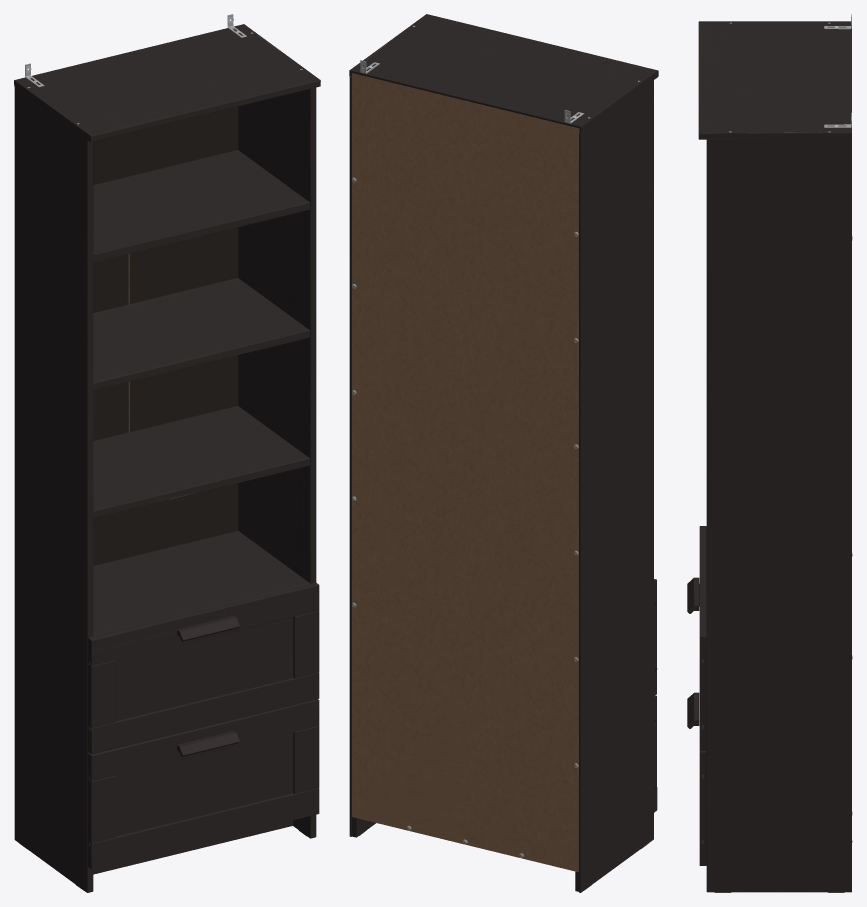
File: BRIMNES_40301223.glb
3 renders of one model, left to right at view 1: azimuth 30°, elevation 25°; view 2: azimuth 150°, elevation 25°; view 3: azimuth 270°, elevation 25°, orthographic.
Visible parts, largest first — view 1: 1; view 2: 1; view 3: 1.
Part boxes in pixels (left/top/right/bottom): 1: left=14, top=14, right=320, bottom=892; 1: left=349, top=14, right=658, bottom=892; 1: left=687, top=14, right=852, bottom=892.
Bounding box in the file's own units: 0.6019 × 1.93 × 0.3754.
2 materials, 2 textured.
